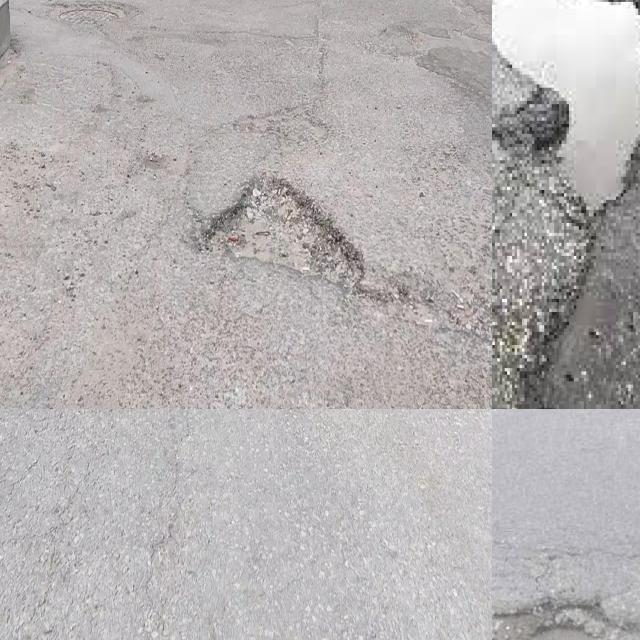Pothole: (492, 0, 640, 213), (195, 171, 365, 295)
